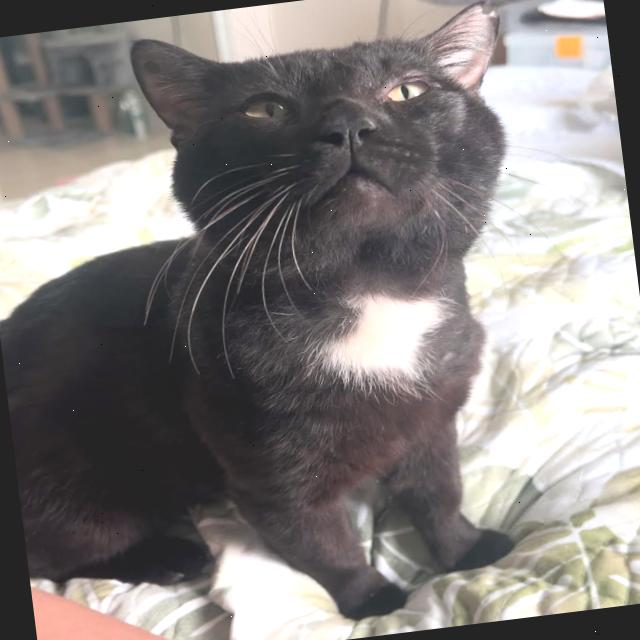domestic_short_hair_cat: (96, 0, 600, 358)
